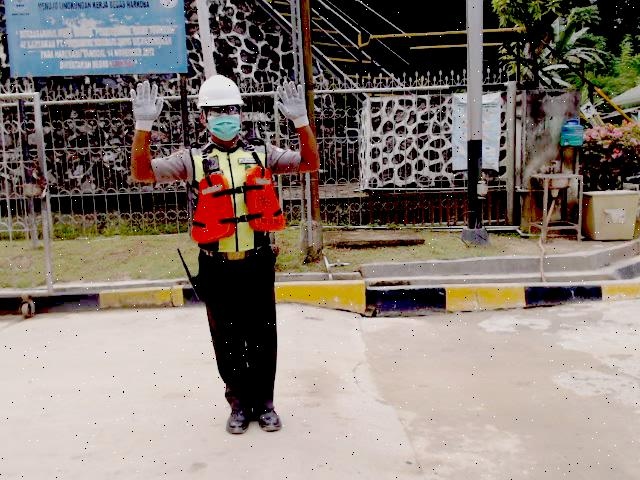glasses: (206, 106, 240, 116)
gloves: (127, 79, 165, 134), (274, 79, 311, 129)
helmet: (196, 74, 244, 107)
mask: (207, 116, 242, 141)
safety-shoes: (226, 405, 255, 437), (253, 407, 285, 434)
vest: (189, 163, 287, 244)
